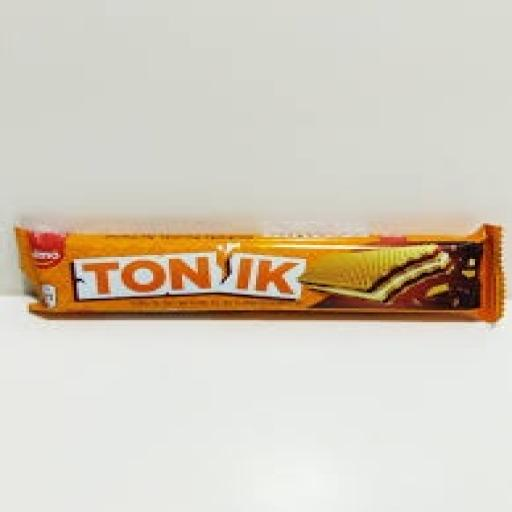tonik: (19, 178, 512, 368)
